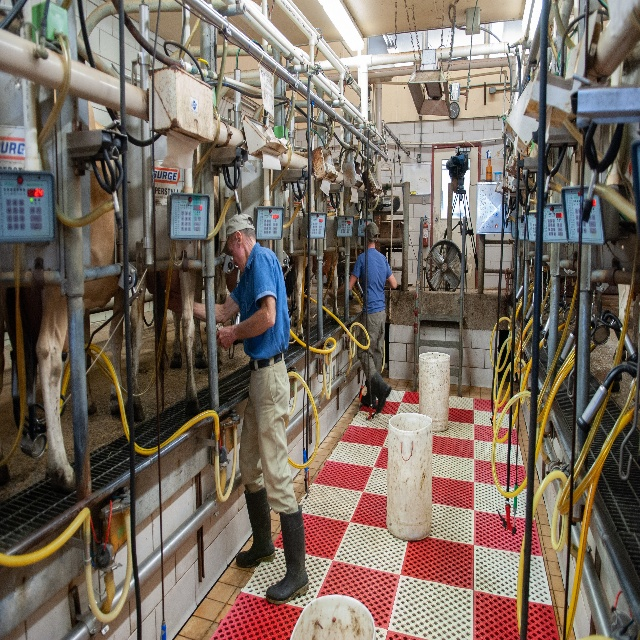Sin_guantes: (217, 324, 236, 350)
